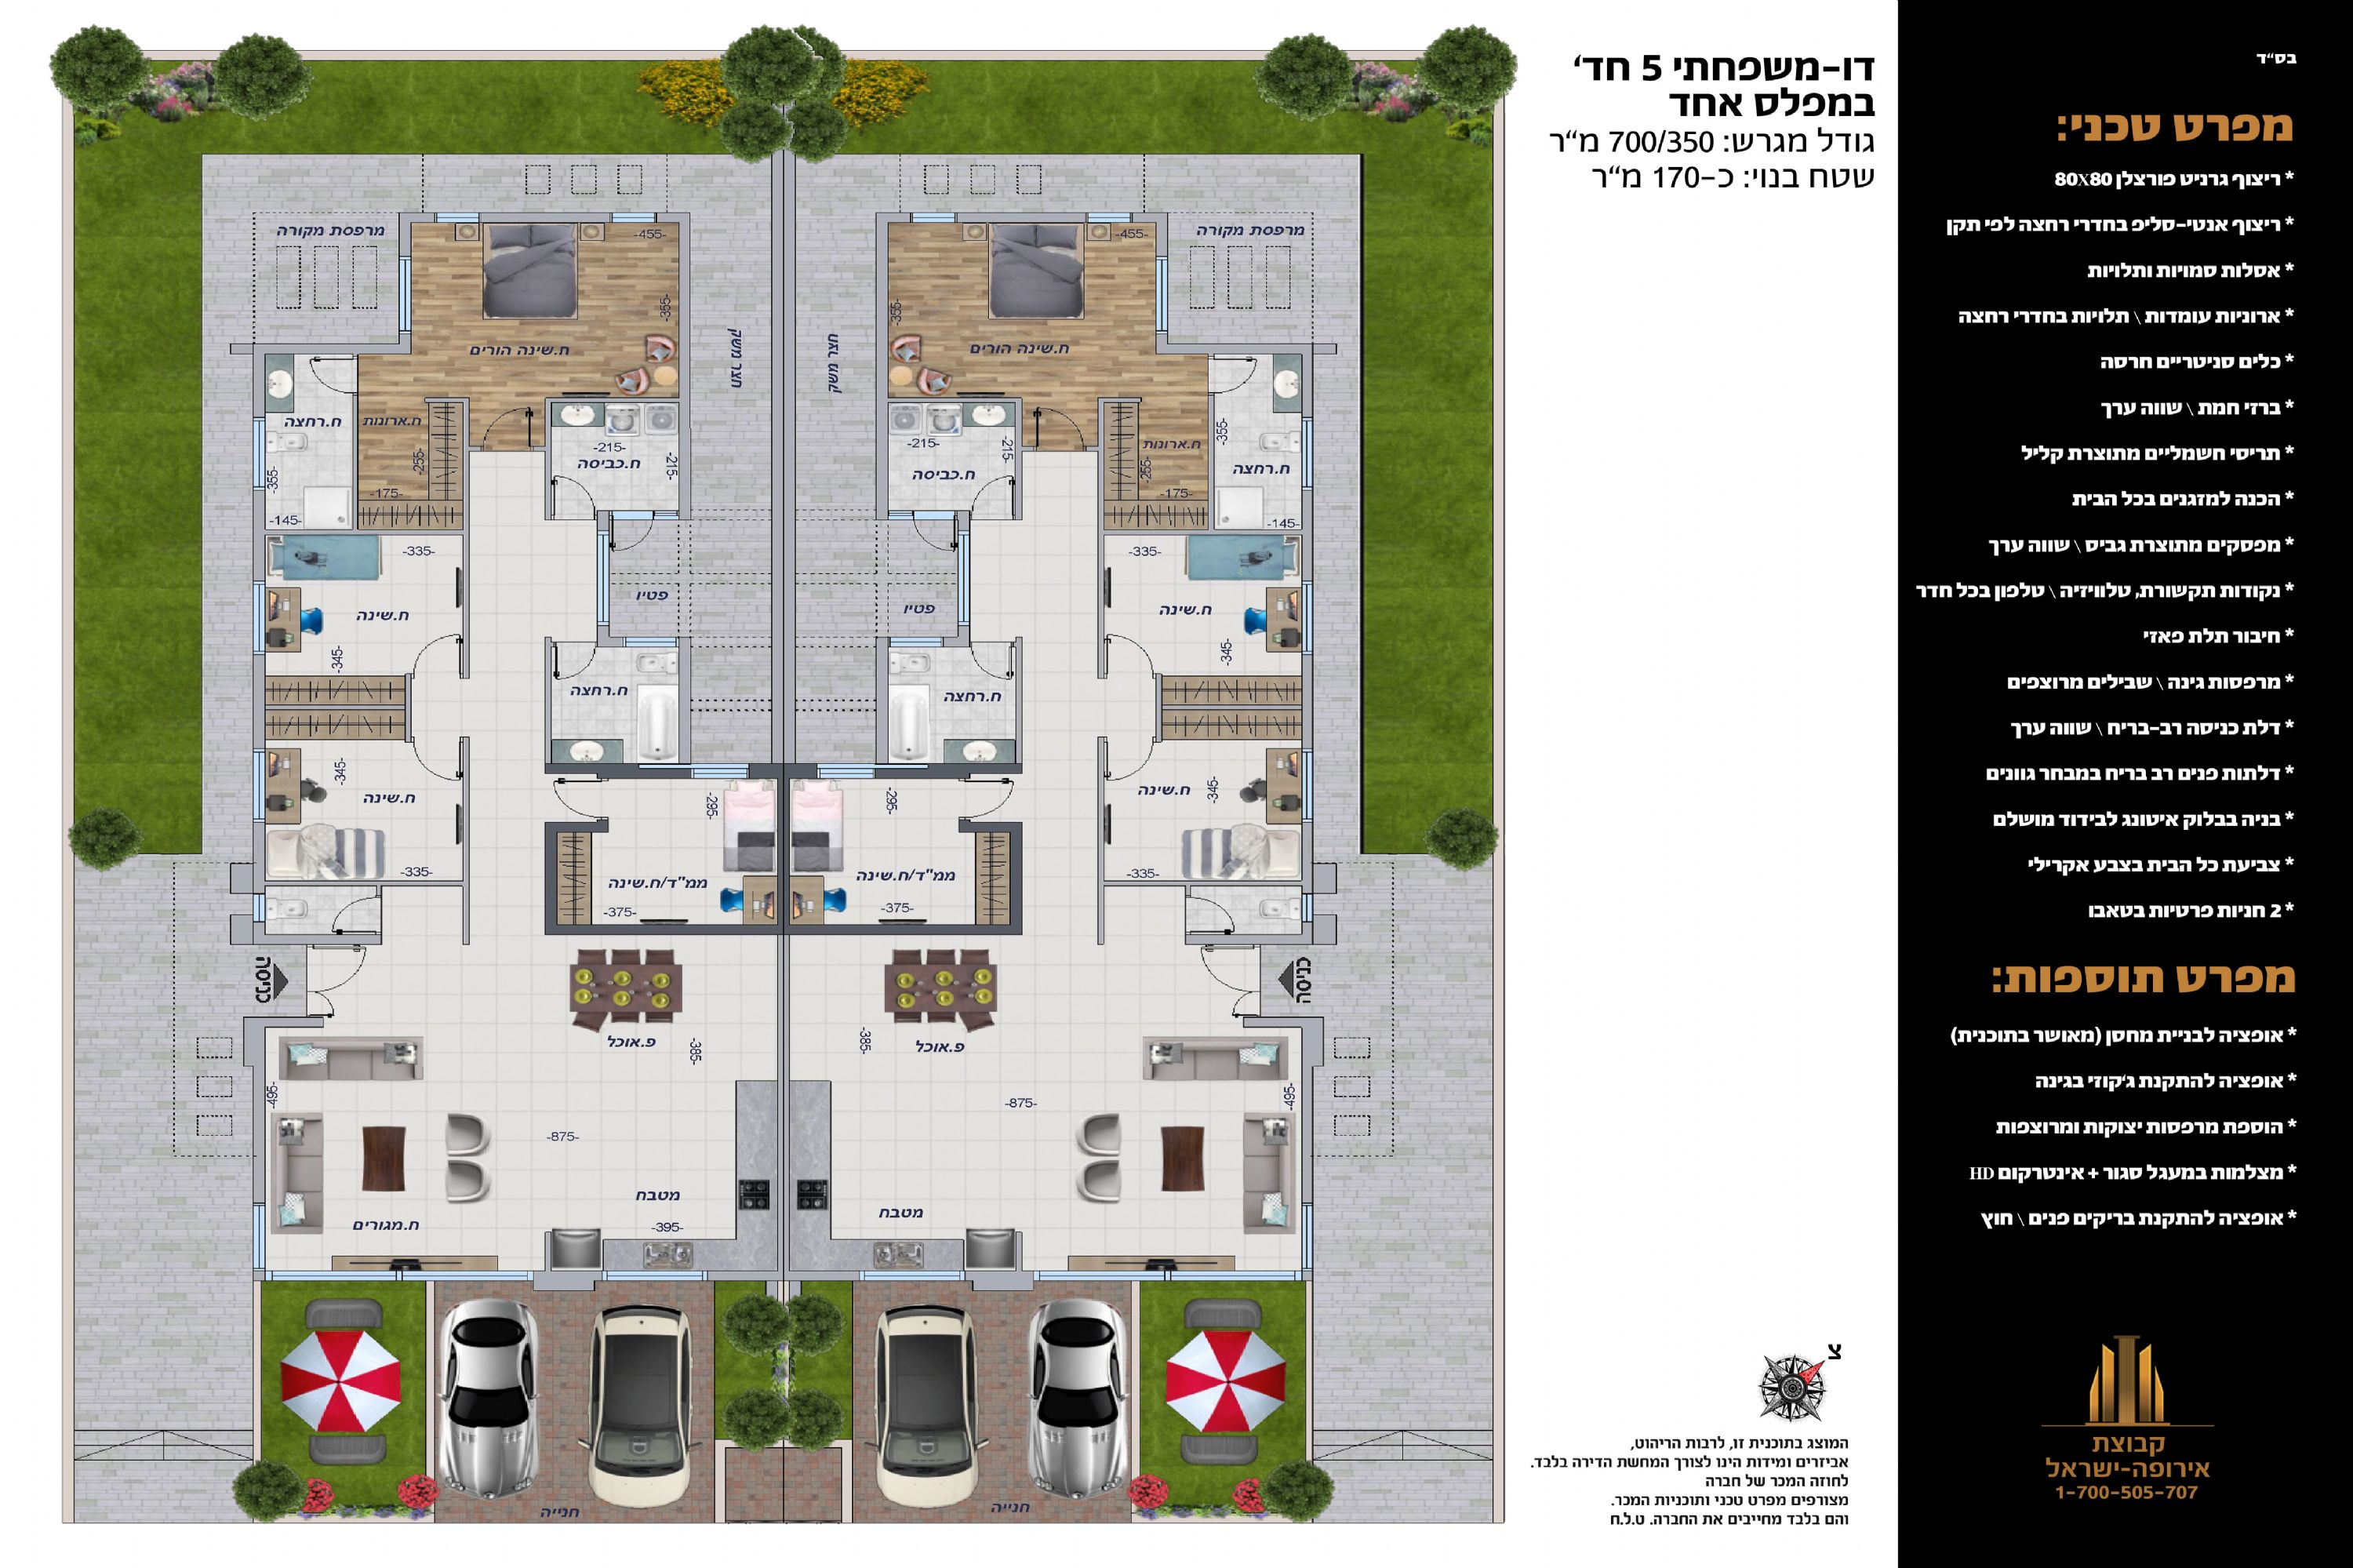door: (402, 747, 462, 787), (476, 401, 537, 439), (324, 943, 381, 983), (409, 628, 464, 670), (1027, 404, 1092, 439), (1104, 625, 1160, 665), (1198, 947, 1254, 987), (329, 889, 378, 934), (304, 353, 350, 401), (546, 773, 591, 819), (971, 467, 1015, 513), (1104, 744, 1156, 780), (1191, 892, 1239, 933), (1216, 355, 1263, 394), (903, 523, 957, 556), (313, 989, 380, 1015), (966, 649, 1015, 682), (611, 523, 660, 555), (553, 651, 602, 682), (974, 779, 1020, 812), (553, 472, 604, 502), (1226, 994, 1253, 1015)
wall: (784, 157, 798, 761), (773, 152, 784, 761), (243, 1017, 264, 1197), (677, 213, 689, 521), (876, 212, 889, 514), (791, 924, 1023, 934), (779, 763, 789, 936), (875, 637, 889, 761), (1156, 345, 1314, 355), (679, 637, 691, 763), (252, 651, 268, 747), (960, 212, 1090, 220), (254, 488, 266, 576), (399, 212, 413, 254)
window: (269, 1270, 401, 1283), (1167, 1270, 1298, 1281), (1034, 1270, 1170, 1279), (401, 1272, 530, 1281), (605, 1270, 707, 1281), (598, 530, 609, 623), (252, 418, 266, 486), (1156, 255, 1169, 331), (862, 1270, 964, 1279), (252, 581, 264, 651), (252, 749, 264, 819), (957, 530, 966, 621), (399, 257, 409, 331), (1302, 416, 1312, 488), (1303, 751, 1314, 819), (820, 768, 875, 780), (890, 637, 943, 649), (1303, 583, 1312, 654), (623, 637, 679, 647), (1302, 1204, 1310, 1270), (254, 1206, 262, 1270), (611, 212, 658, 222), (693, 768, 749, 777), (1086, 213, 1132, 224), (910, 212, 957, 220), (436, 213, 478, 222), (1302, 894, 1314, 922), (254, 894, 266, 919)
